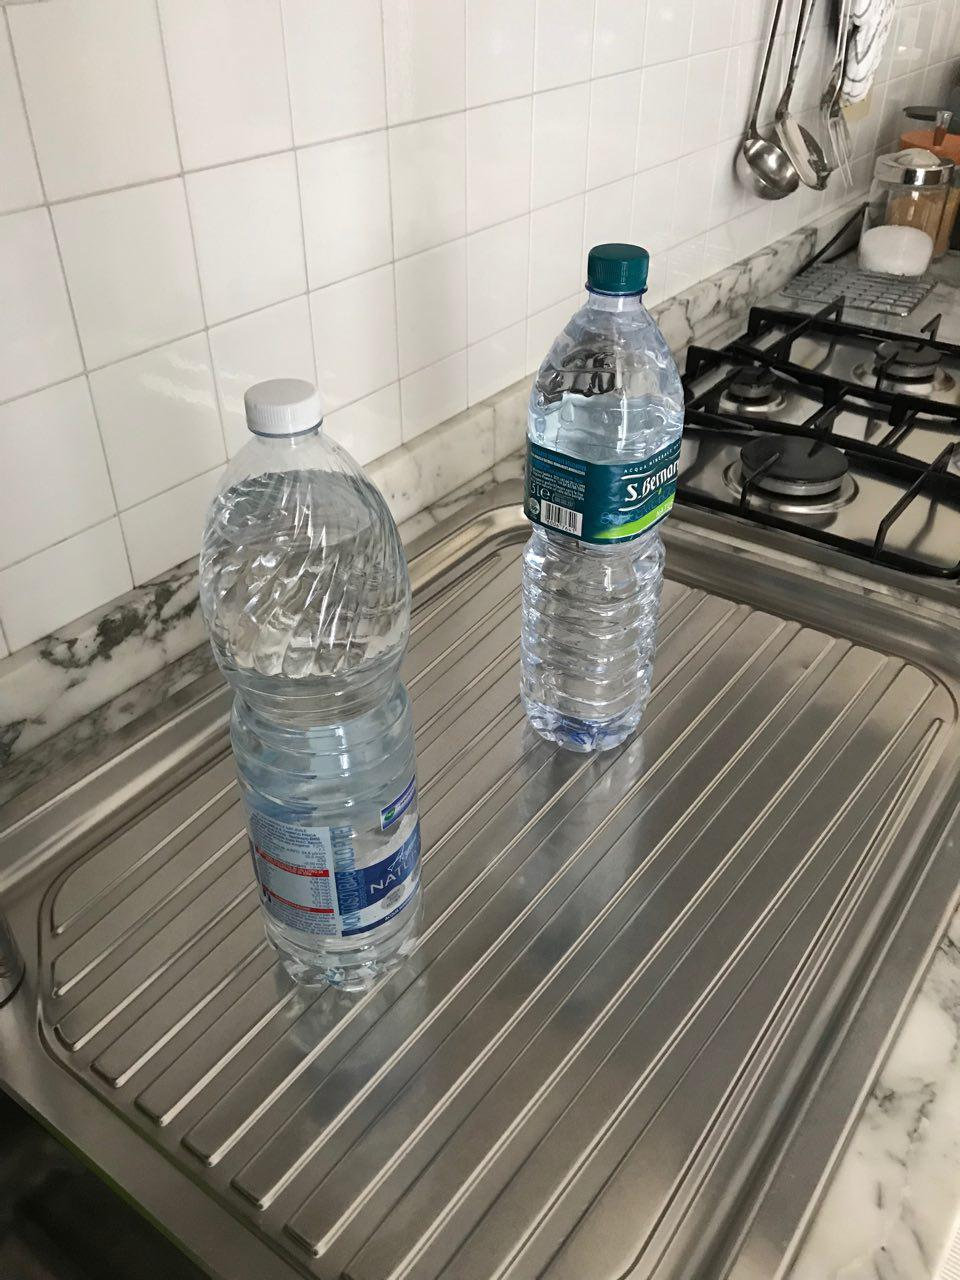san_bernardo: (518, 242, 685, 754)
